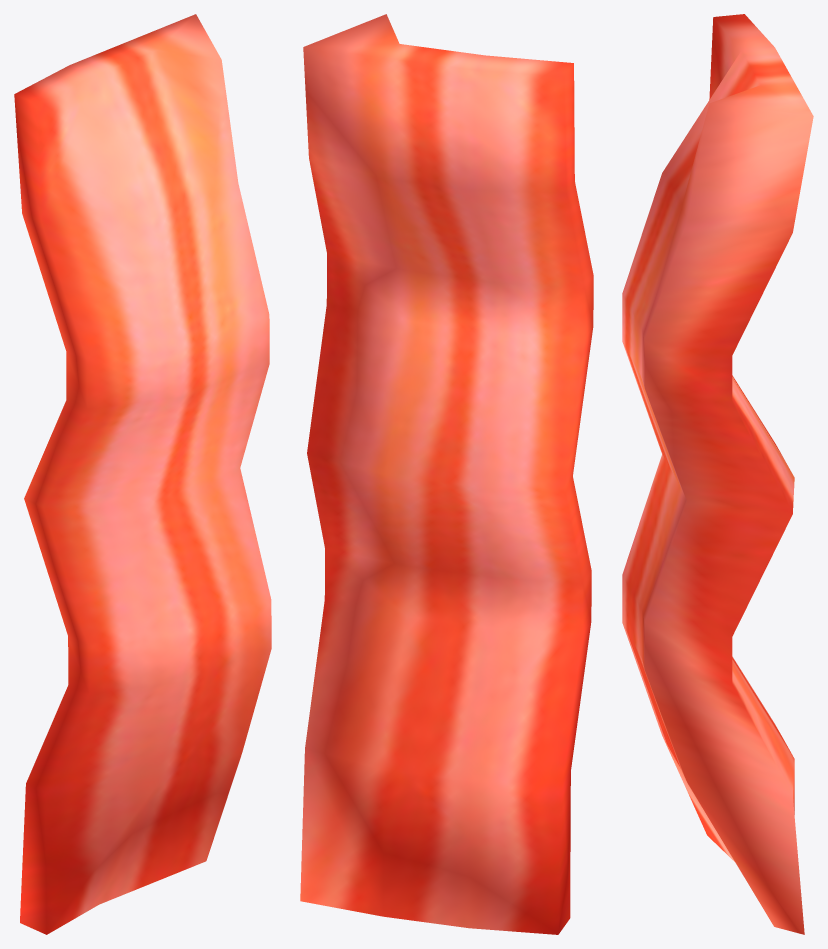
The model's file is red_beacon.glb.
The picture shows the model from 3 angles, left to right: view 1: azimuth 30°, elevation 25°; view 2: azimuth 150°, elevation 25°; view 3: azimuth 270°, elevation 25°; orthographic projection. The views are drawn at different scales.
Parts seen in each view (by area): view 1: red_beacon; view 2: red_beacon; view 3: red_beacon.
Boxes of the visible parts, box(x1,y1,x2,y2) form: red_beacon: box(14, 14, 271, 934); red_beacon: box(300, 14, 593, 934); red_beacon: box(622, 14, 813, 934).
Bounding box in the file's own units: 0.2628 × 0.8797 × 0.1868.
1 material, 1 textured.
